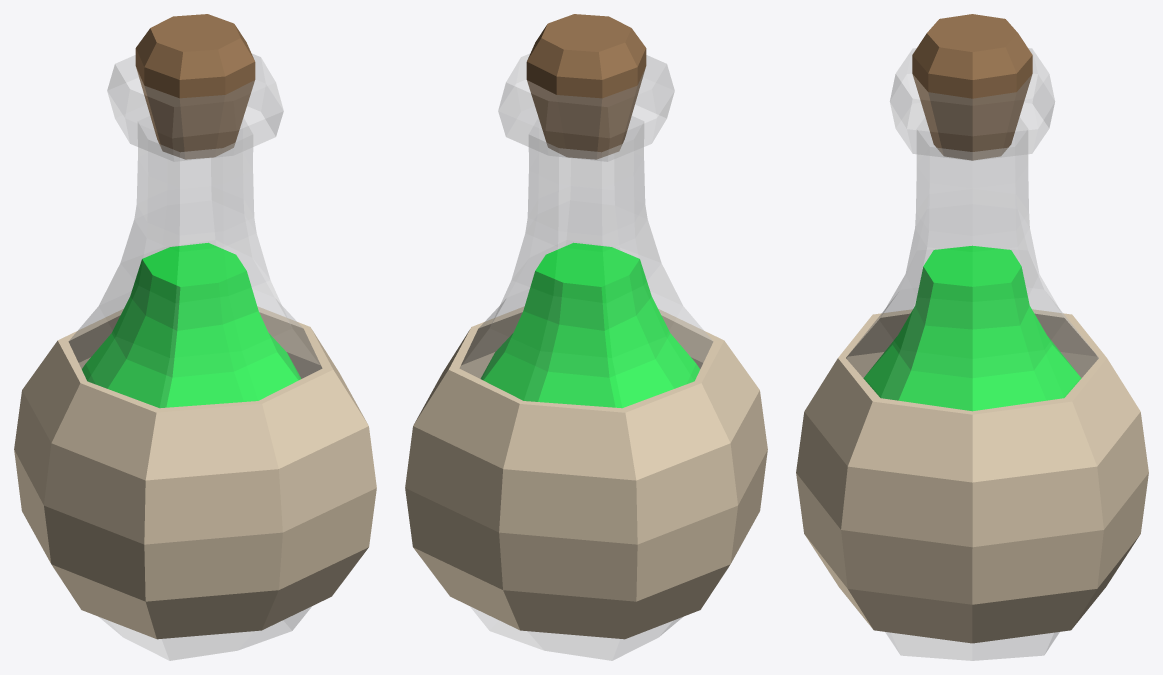
The model's file is PotionBottle1Textured.fbx.
3 views of the same model, side by side, from view 1: azimuth 30°, elevation 25°; view 2: azimuth 150°, elevation 25°; view 3: azimuth 270°, elevation 25° (orthographic).
Parts seen in each view (by area): view 1: Bottle1, Bottle1Potion; view 2: Bottle1, Bottle1Potion; view 3: Bottle1, Bottle1Potion.
Boxes of the visible parts, x1,y1,x2,y2 form: Bottle1: (14, 14, 376, 660); Bottle1Potion: (82, 242, 301, 408); Bottle1: (405, 14, 767, 660); Bottle1Potion: (480, 242, 699, 408); Bottle1: (796, 14, 1148, 660); Bottle1Potion: (863, 245, 1081, 411).
Bounding box in the file's own units: 8.4 × 15.54 × 8.39.
